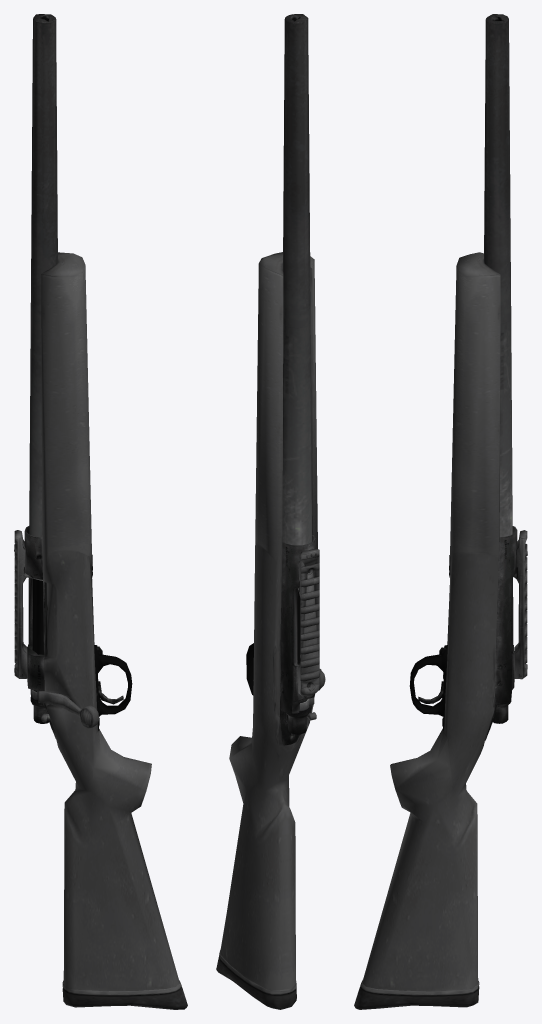
File: HuntingRifleNoMag.fbx
3 renders of one model, left to right at view 1: azimuth 90°, elevation 25°; view 2: azimuth 210°, elevation 25°; view 3: azimuth 270°, elevation 25°, orthographic.
Parts seen in each view (by area): view 1: HuntingRifle; view 2: HuntingRifle; view 3: HuntingRifle.
Boxes of the visible parts, x1,y1,x2,y2 form: HuntingRifle: (14, 14, 187, 1009); HuntingRifle: (216, 14, 325, 1009); HuntingRifle: (354, 14, 527, 1009).
Bounding box in the file's own units: 0.0515 × 0.6562 × 0.1045.
